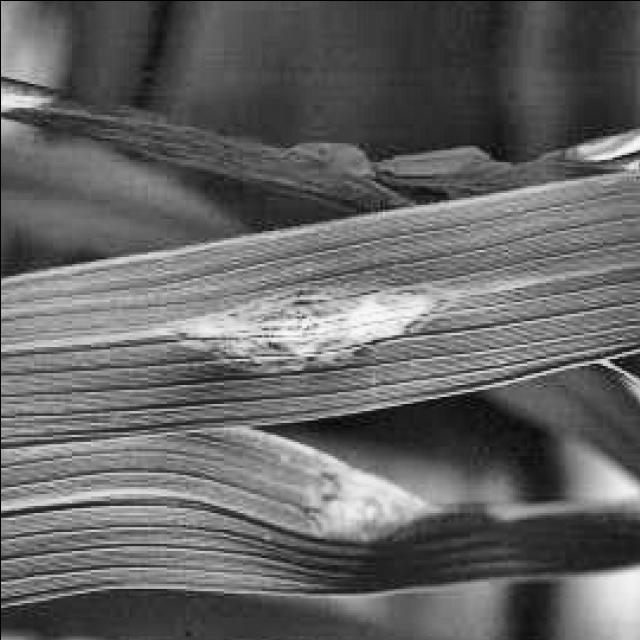Leaf_Blast: (155, 277, 554, 550)
